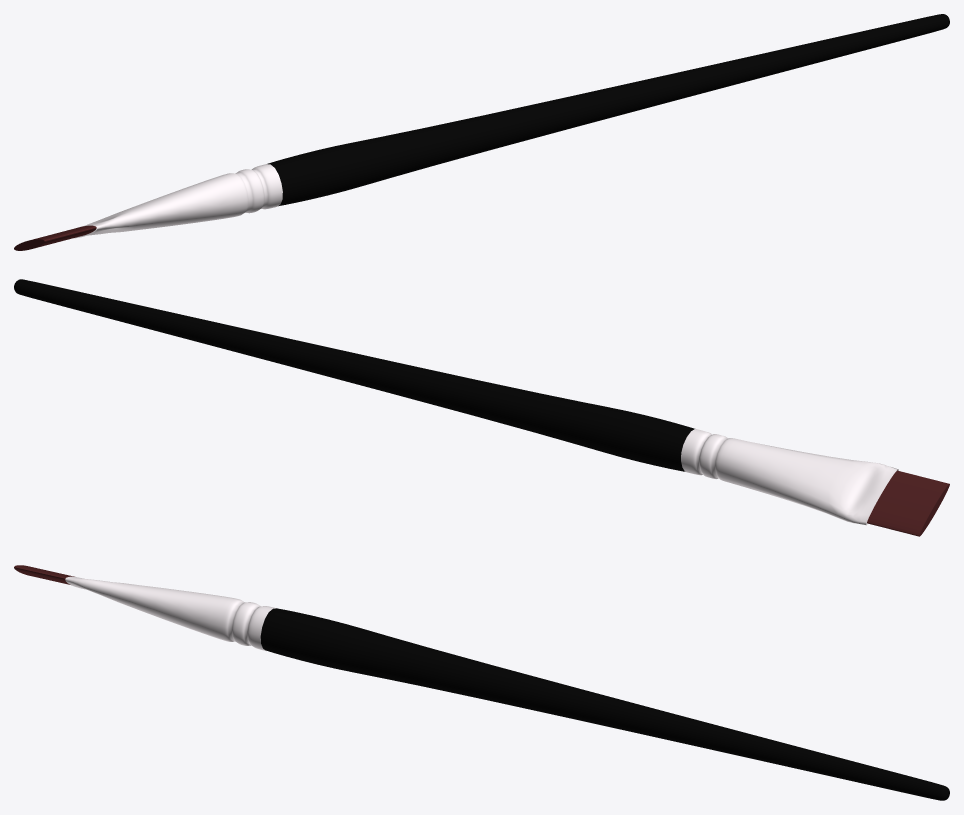
Rendered from brushing.glb.
3 renders of one model, top to bottom at view 1: azimuth 30°, elevation 25°; view 2: azimuth 150°, elevation 25°; view 3: azimuth 330°, elevation 25°, orthographic.
Parts seen in each view (by area): view 1: 18 flat brush, Cube.001, Cylinder; view 2: 18 flat brush, Cube.001, Cylinder; view 3: 18 flat brush, Cube.001, Cylinder.
Part boxes in pixels (x1,y1,x2,y2): 18 flat brush: [267, 14, 949, 206]; Cube.001: [74, 164, 282, 238]; Cylinder: [14, 225, 96, 250]; 18 flat brush: [14, 279, 694, 471]; Cube.001: [681, 429, 898, 525]; Cylinder: [867, 470, 949, 536]; 18 flat brush: [260, 608, 949, 800]; Cube.001: [65, 576, 275, 651]; Cylinder: [14, 565, 74, 584].
Bounding box in the file's own units: 2.39 × 0.1057 × 0.1508.
